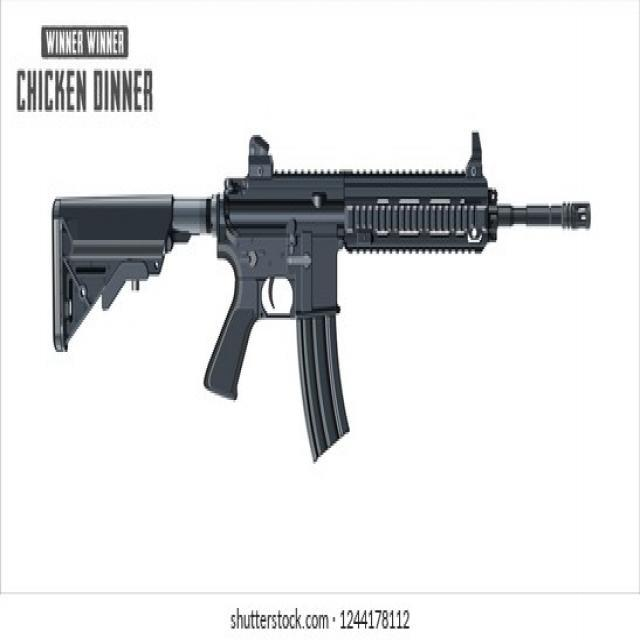rifle: (41, 122, 605, 460)
